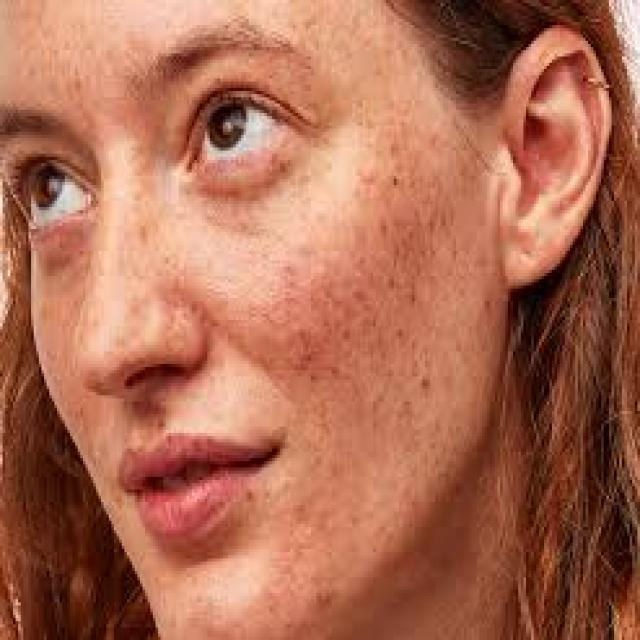Black Heads: (282, 220, 452, 422)
